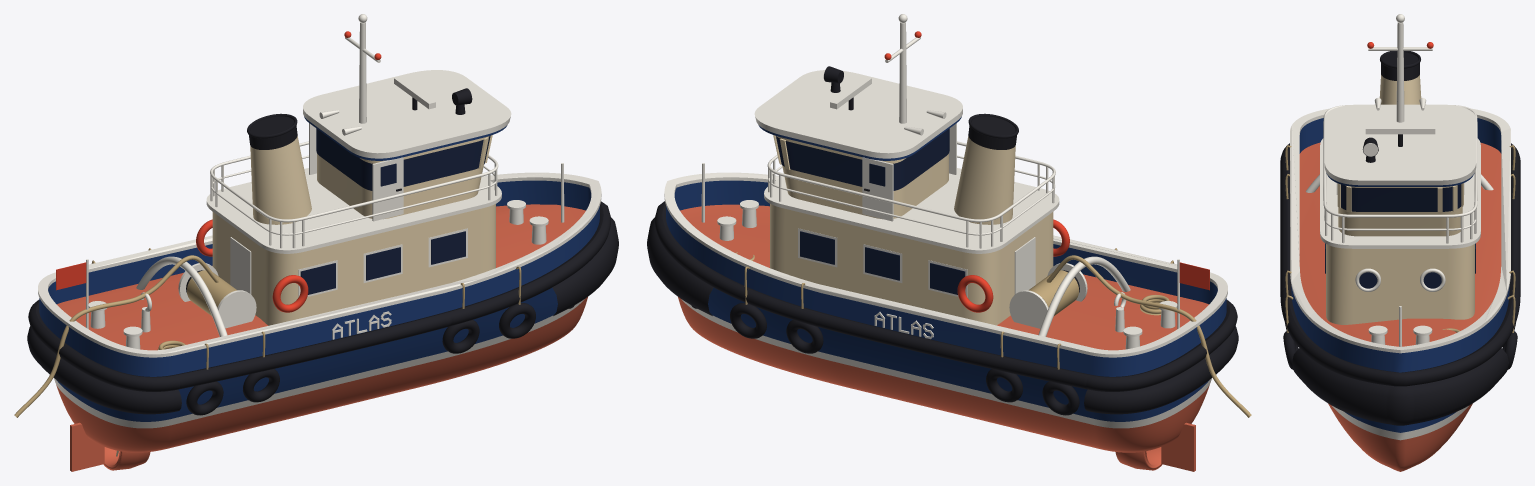
File: tugboat.glb
3 renders of one model, left to right at view 1: azimuth 30°, elevation 25°; view 2: azimuth 150°, elevation 25°; view 3: azimuth 270°, elevation 25°, orthographic.
Parts seen in each view (by area): view 1: deckhouse, hull_bottom, wheelhouse_roof, bulwark_outer, fender_rub, deck, hull_topsides, cap_rail, deckhouse_roof, bulwark_inner, funnel, wheelhouse (+25 smaller); view 2: deckhouse, hull_bottom, wheelhouse_roof, bulwark_outer, fender_rub, deck, hull_topsides, cap_rail, deckhouse_roof, bulwark_inner, funnel, wheelhouse (+25 smaller); view 3: wheelhouse_roof, deckhouse, deck, bow_fender, fender_rub, cap_rail, bulwark_outer, deckhouse_roof, hull_bottom, wheelhouse, wheelhouse_windows, roof_rail (+13 smaller).
Boxes of the visible parts, box(x1,y1,x2,y2) form: deckhouse: box(212, 204, 495, 325); hull_bottom: box(56, 297, 587, 452); wheelhouse_roof: box(303, 70, 511, 158); bulwark_outer: box(39, 206, 599, 376); fender_rub: box(28, 201, 610, 391); deck: box(57, 204, 585, 350); hull_topsides: box(56, 288, 557, 421); cap_rail: box(38, 172, 601, 357); deckhouse_roof: box(206, 168, 501, 253); bulwark_inner: box(48, 180, 591, 304); funnel: box(250, 136, 311, 224); wheelhouse: box(317, 136, 489, 219); deckhouse: box(770, 204, 1053, 325); hull_bottom: box(678, 297, 1209, 452); wheelhouse_roof: box(754, 70, 962, 158); bulwark_outer: box(666, 206, 1226, 376); fender_rub: box(655, 201, 1237, 391); deck: box(680, 204, 1208, 350); hull_topsides: box(708, 288, 1209, 421); cap_rail: box(664, 172, 1227, 357); deckhouse_roof: box(764, 168, 1059, 253); bulwark_inner: box(674, 180, 1217, 304); funnel: box(954, 136, 1015, 224); wheelhouse: box(776, 136, 948, 219); wheelhouse_roof: box(1324, 104, 1476, 185); deckhouse: box(1326, 244, 1474, 324); deck: box(1299, 142, 1501, 346); bow_fender: box(1292, 348, 1508, 425); fender_rub: box(1280, 143, 1520, 386); cap_rail: box(1290, 104, 1510, 353); bulwark_outer: box(1291, 286, 1509, 372); deckhouse_roof: box(1320, 138, 1480, 248); hull_bottom: box(1328, 403, 1472, 471); wheelhouse: box(1338, 185, 1462, 236); wheelhouse_windows: box(1341, 184, 1461, 211); roof_rail: box(1323, 105, 1477, 217).
Bounding box in the file's own units: 13.82 × 8.66 × 4.85.
